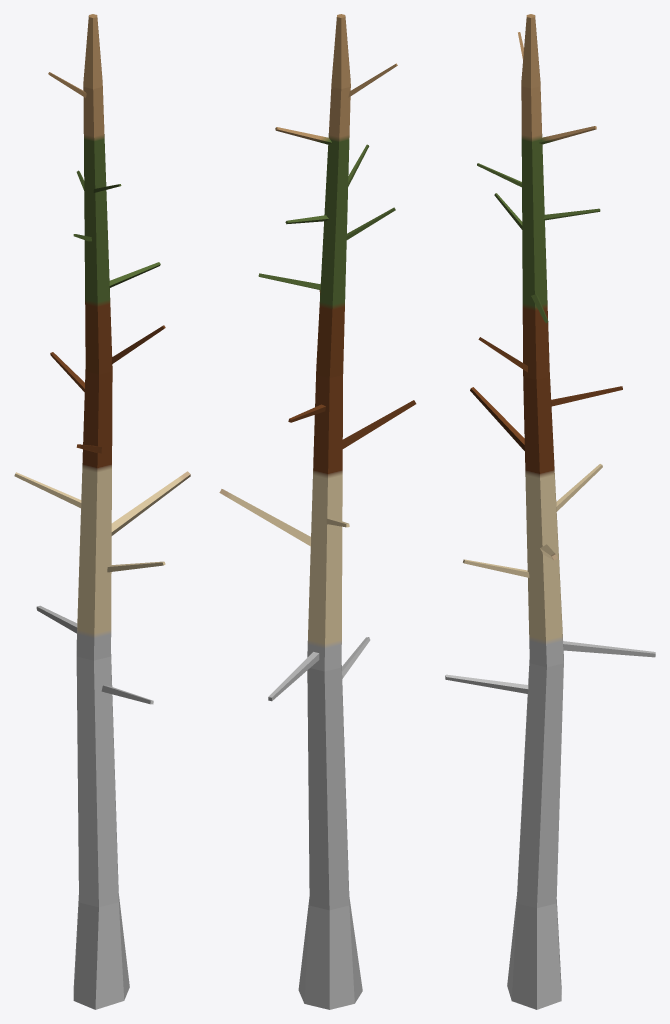
The model's file is Tree_26.fbx.
The picture shows the model from 3 angles, left to right: view 1: azimuth 30°, elevation 25°; view 2: azimuth 150°, elevation 25°; view 3: azimuth 270°, elevation 25°; orthographic projection.
Visible parts, largest first — view 1: Tree_26; view 2: Tree_26; view 3: Tree_26.
Boxes of the visible parts, x1=… form: Tree_26: x1=14, y1=14, x2=190, y2=1009; Tree_26: x1=219, y1=14, x2=416, y2=1009; Tree_26: x1=445, y1=14, x2=655, y2=1009.
Bounding box in the file's own units: 2.56 × 15.06 × 2.95.
